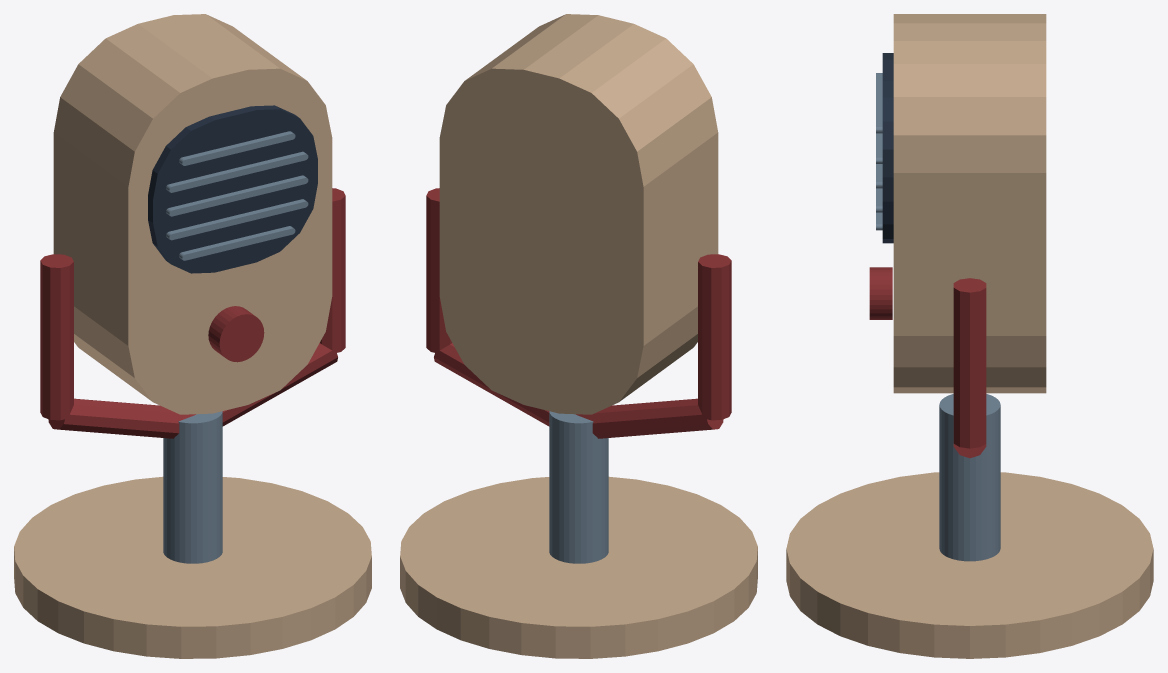
The model's file is mic.glb.
The picture shows the model from 3 angles, left to right: view 1: azimuth 30°, elevation 25°; view 2: azimuth 150°, elevation 25°; view 3: azimuth 270°, elevation 25°; orthographic projection. The views are drawn at different scales.
Parts seen in each view (by area): view 1: capsule, base, grille, stand, yoke0, yoke1, yoke3, mute key, mesh bar 3, mesh bar 1, mesh bar 2, yoke2 (+2 smaller); view 2: capsule, base, stand, yoke0, yoke1, yoke3, yoke2; view 3: capsule, base, stand, yoke3, grille, mute key.
Boxes of the visible parts, x1,y1,x2,y2 form: capsule: (53, 14, 332, 414); base: (14, 476, 371, 658); grille: (148, 105, 317, 273); stand: (163, 411, 222, 563); yoke0: (40, 254, 73, 420); yoke1: (48, 398, 195, 438); yoke3: (320, 188, 345, 352); mute key: (208, 306, 264, 362); mesh bar 3: (166, 151, 308, 192); mesh bar 1: (166, 199, 308, 240); mesh bar 2: (166, 175, 308, 216); yoke2: (222, 343, 337, 426); capsule: (439, 14, 718, 414); base: (400, 476, 757, 658); stand: (549, 411, 608, 563); yoke0: (698, 254, 731, 420); yoke1: (576, 398, 723, 438); yoke3: (426, 188, 451, 352); yoke2: (434, 343, 549, 426); capsule: (893, 14, 1046, 393); base: (786, 472, 1153, 658); stand: (939, 394, 1000, 561); yoke3: (953, 278, 986, 448); grille: (882, 53, 893, 243); mute key: (869, 267, 892, 319).
Size of the model in its own units: 0.96 by 1.59 by 0.96.
